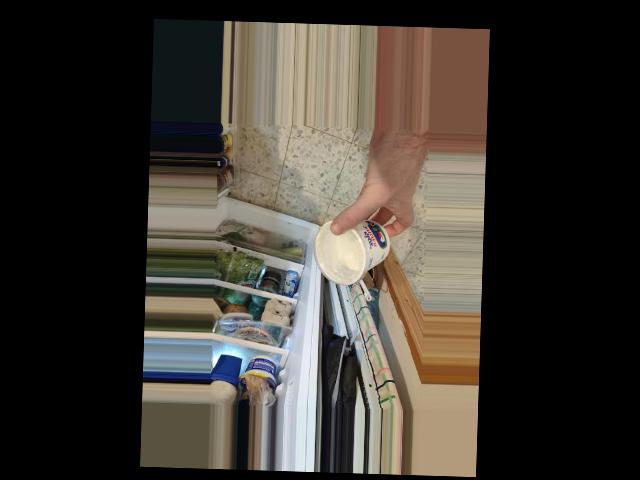cotage: (314, 208, 398, 288)
